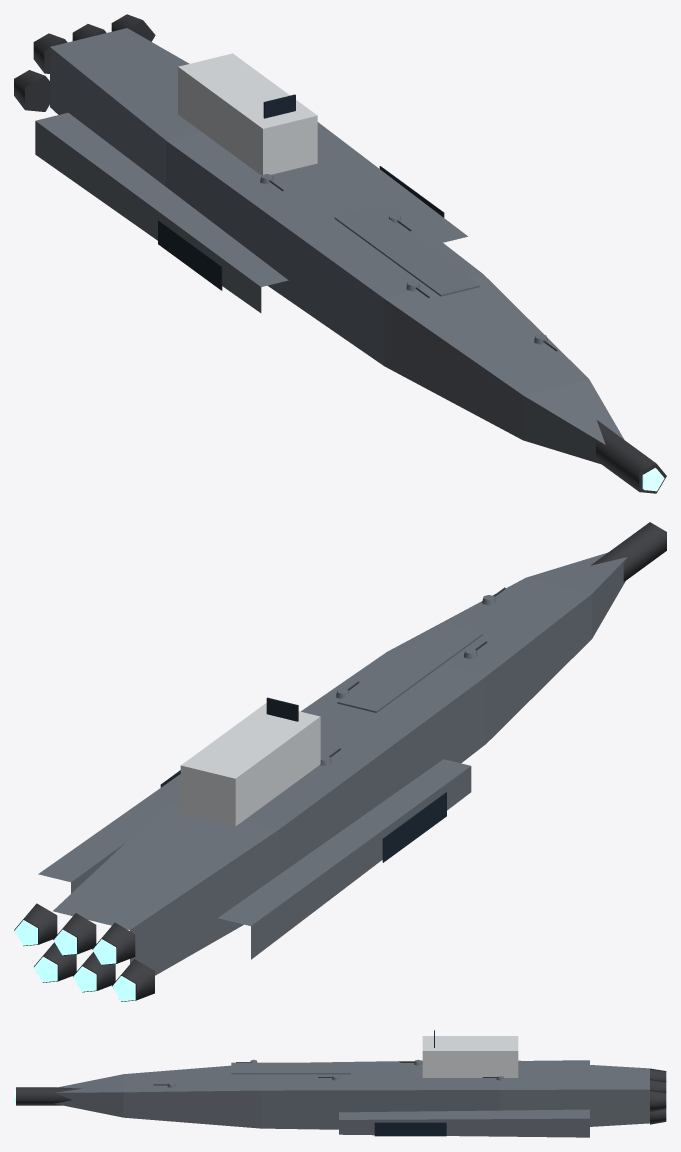
The model's file is space_ship_battleship_mk3_lod1.glb.
The picture shows the model from 3 angles, top to bottom: view 1: azimuth 30°, elevation 25°; view 2: azimuth 150°, elevation 25°; view 3: azimuth 270°, elevation 25°; orthographic projection. The views are drawn at different scales.
Visible parts, largest first — view 1: body, main_gun, hangar_r, engine_0; view 2: body, main_gun, hangar_r, engine_1, engine_3, engine_5, engine_0, engine_4, engine_2; view 3: body, hangar_l, main_gun, engine_5, engine_4, engine_1, engine_3.
Part boxes in pixels (x1,y1,x2,y2): body: [35, 28, 624, 463]; main_gun: [596, 420, 666, 493]; hangar_r: [158, 220, 222, 290]; engine_0: [14, 70, 49, 111]; body: [38, 552, 627, 975]; main_gun: [591, 522, 666, 581]; hangar_r: [382, 792, 446, 862]; engine_1: [92, 922, 135, 965]; engine_3: [53, 913, 96, 955]; engine_5: [14, 903, 57, 946]; engine_0: [112, 959, 154, 1001]; engine_4: [34, 942, 76, 982]; engine_2: [72, 952, 115, 992]; body: [54, 1030, 649, 1137]; hangar_l: [374, 1122, 446, 1136]; main_gun: [14, 1087, 81, 1105]; engine_5: [650, 1090, 666, 1111]; engine_4: [650, 1108, 666, 1124]; engine_1: [650, 1068, 666, 1082]; engine_3: [650, 1079, 666, 1092].
Bounding box in the file's own units: 28.5 × 19.25 × 129.
